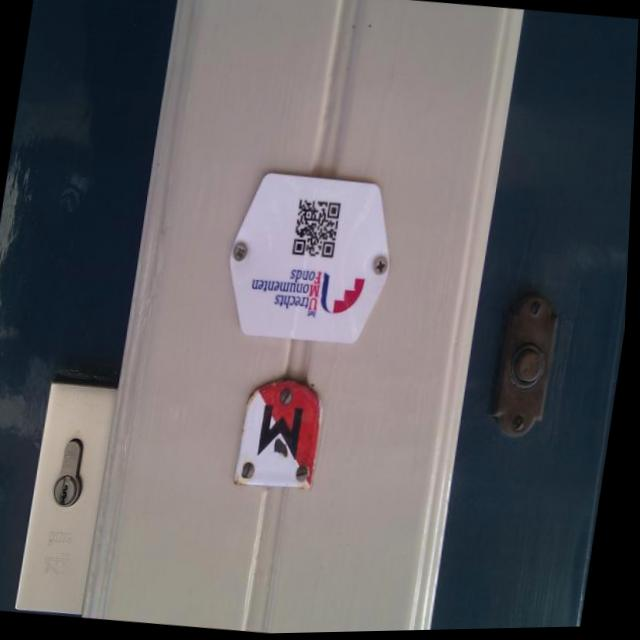qrcode: (294, 200, 343, 260)
